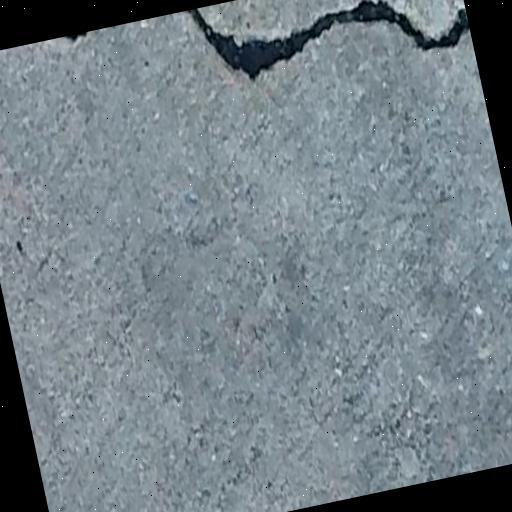spalling: (163, 0, 467, 90)
